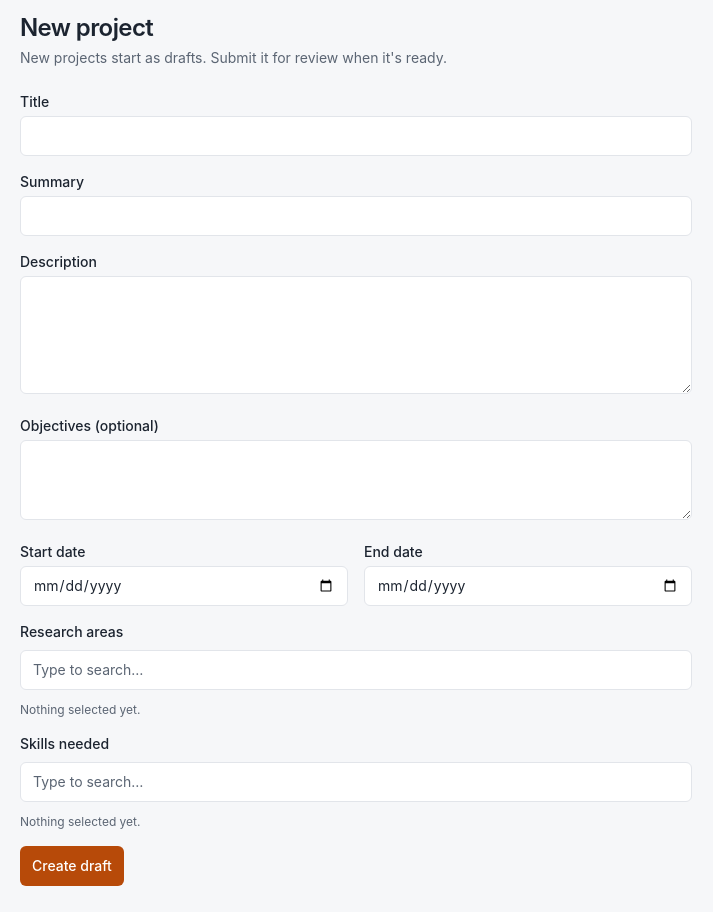
Test case: ProjectFormPage › rejects an end date before the start date
Type "Soil sensors" into the field labelled "Title".
click(356, 136); type("Soil sensors")  # box [20,116,692,156]
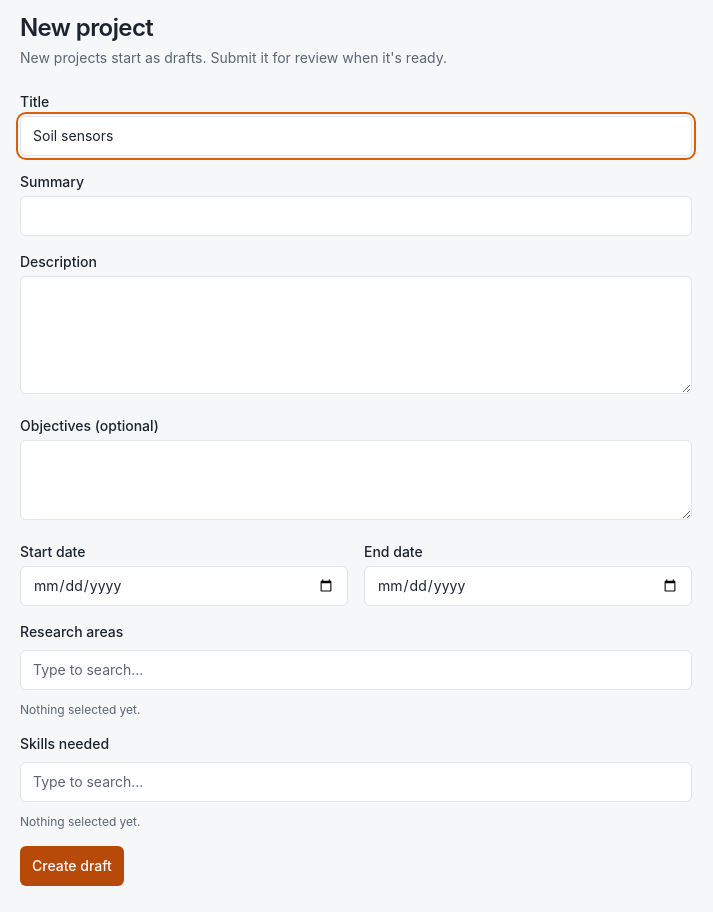
Type "Cheap sensors" into the field labelled "Summary".
click(356, 216); type("Cheap sensors")  # box [20,196,692,236]
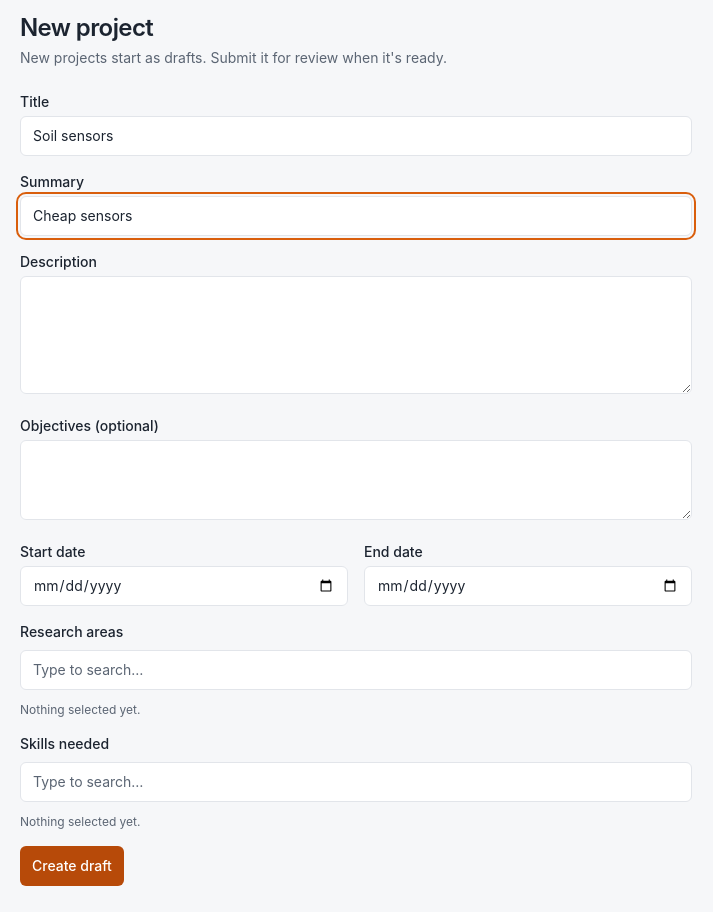
Type "Field tests" into the text box labelled "Description".
click(356, 335); type("Field tests")  # box [20,276,692,394]
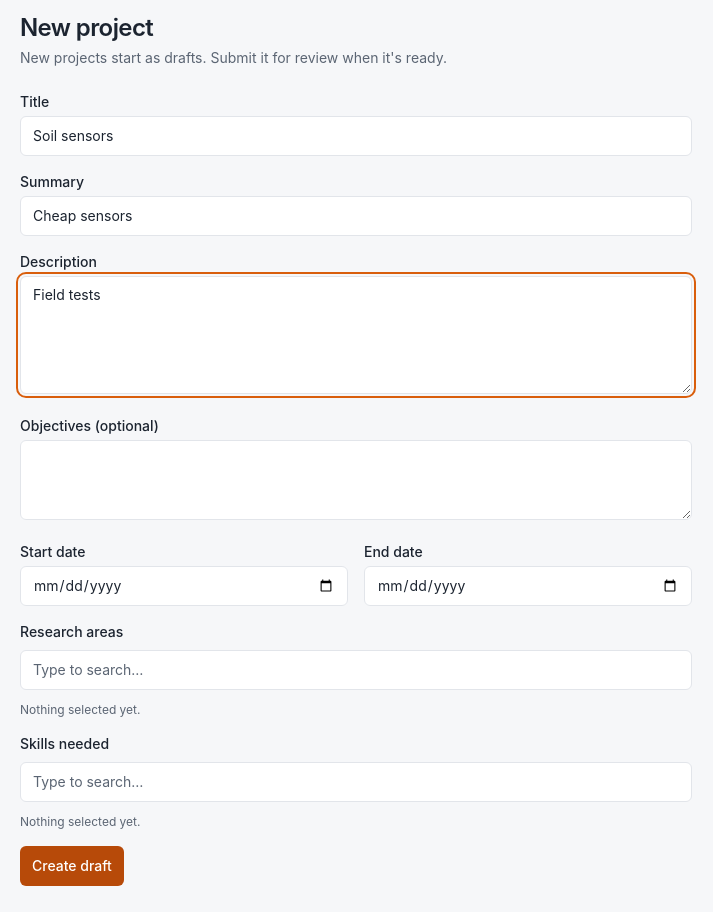
Type "2026-12-01" into the date field labelled "Start date".
click(184, 586); type("2026-12-01")  # box [20,566,348,606]
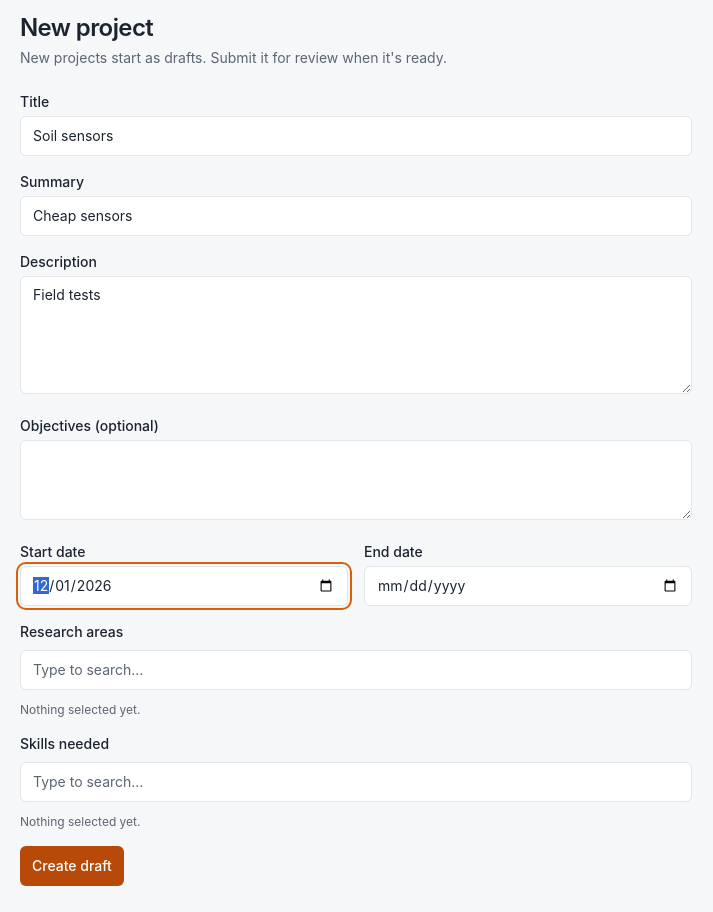
Type "2026-01-01" into the date field labelled "End date".
click(528, 586); type("2026-01-01")  # box [364,566,692,606]
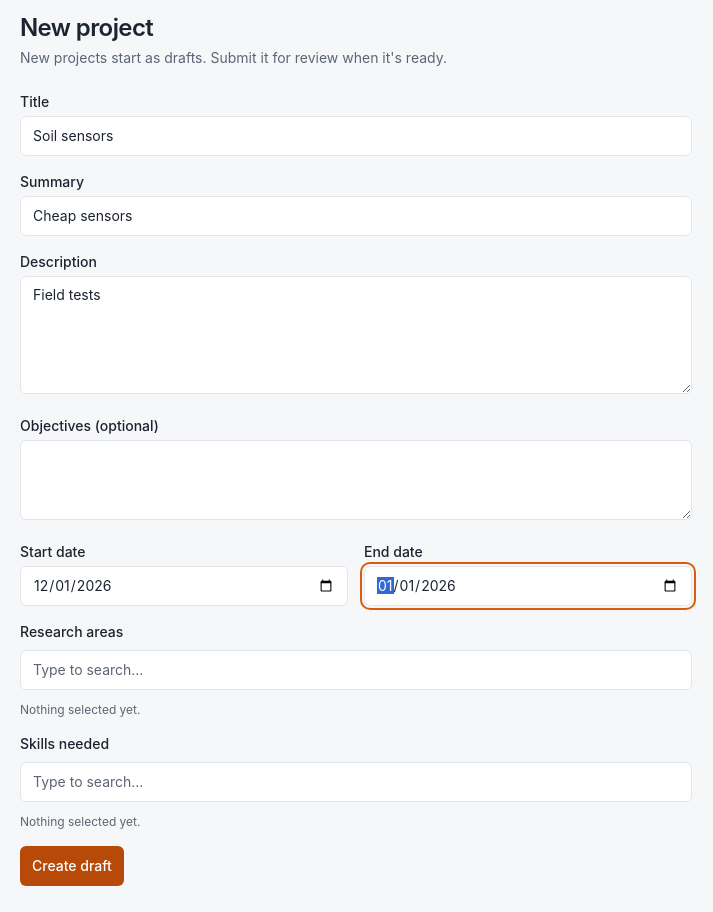
Click the button "Create draft".
click(72, 866)  # box [20,846,124,886]
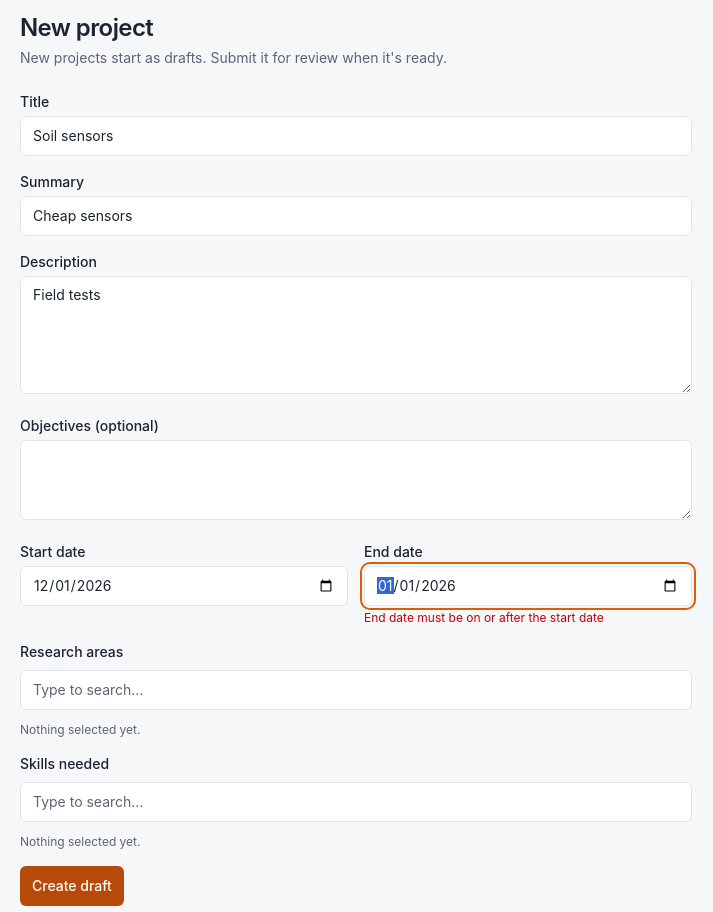
Check: the text "End date must be on or after the start date" is shown, box [364,610,604,625]
